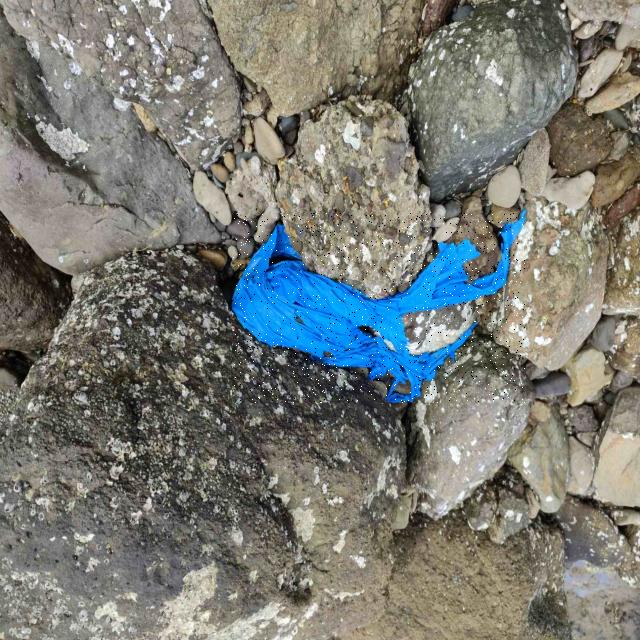plastic: (233, 213, 525, 402)
